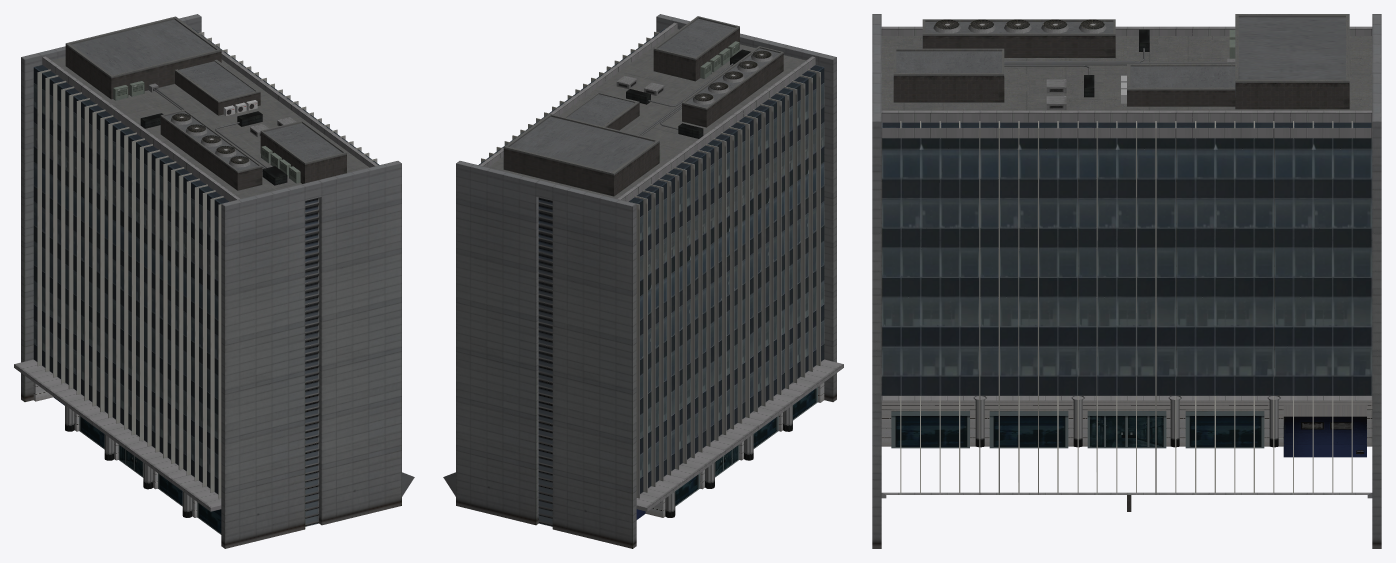
Rendered from edificio_03.glb.
3 views of the same model, side by side, from view 1: azimuth 30°, elevation 25°; view 2: azimuth 150°, elevation 25°; view 3: azimuth 270°, elevation 25° (orthographic). The views are drawn at different scales.
Visible parts, largest first — view 1: AIT01W2W2; view 2: AIT01W2W2; view 3: AIT01W2W2.
Part boxes in pixels (x1,y1,x2,y2): AIT01W2W2: [14, 14, 414, 548]; AIT01W2W2: [443, 14, 843, 548]; AIT01W2W2: [872, 14, 1381, 548].
Bounding box in the file's own units: 18.47 × 30.94 × 32.
Materials: 1 (1 with a texture image).
